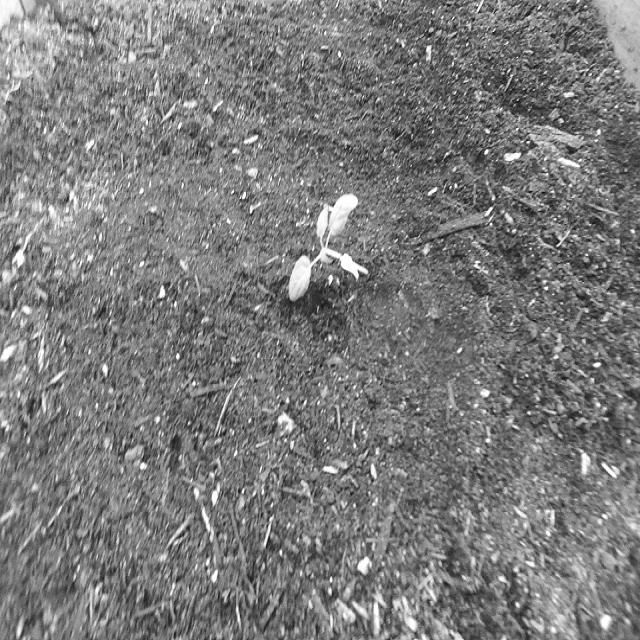Healthy: (277, 164, 376, 325)
